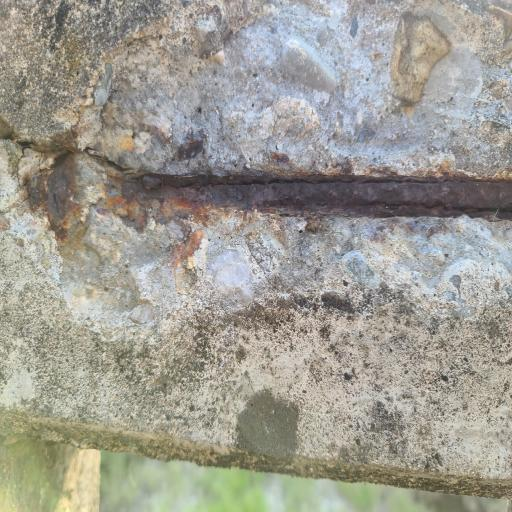exposed_rebar: (124, 172, 512, 213)
